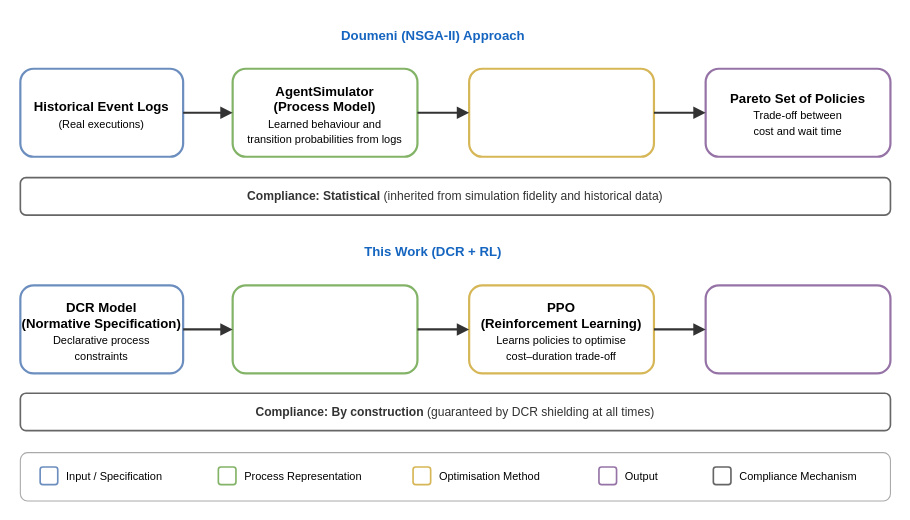
Image size: 910x520. Some labels were removed from this diagram. The shapes that lost their labels are listed below. From the top down, each one's centre as x and y in pixels, then its label:
At (x=561, y=112): "NSGA-II (Multi-objective GA) Evolution of agent assignment policies".
At (x=324, y=329): "Shielded Environment (DCR Semantics) Actions filtered to enforce DCR constraints".
At (x=797, y=329): "Family of Policies (α, β Weights) Weight-conditioned policy solutions".
